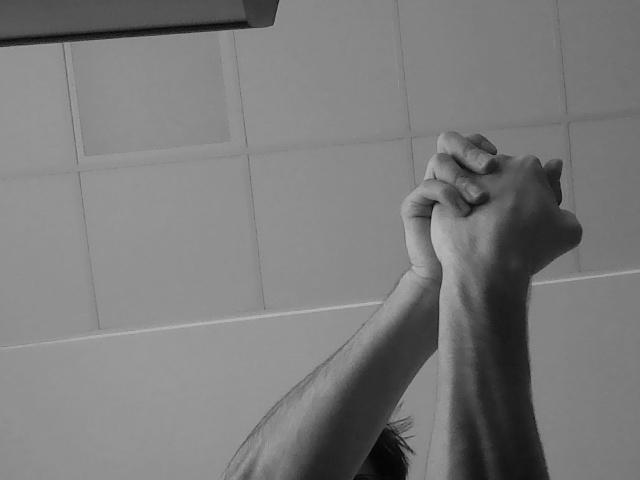friend: (382, 131, 590, 303)
